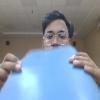notebook: (0, 44, 99, 99)
